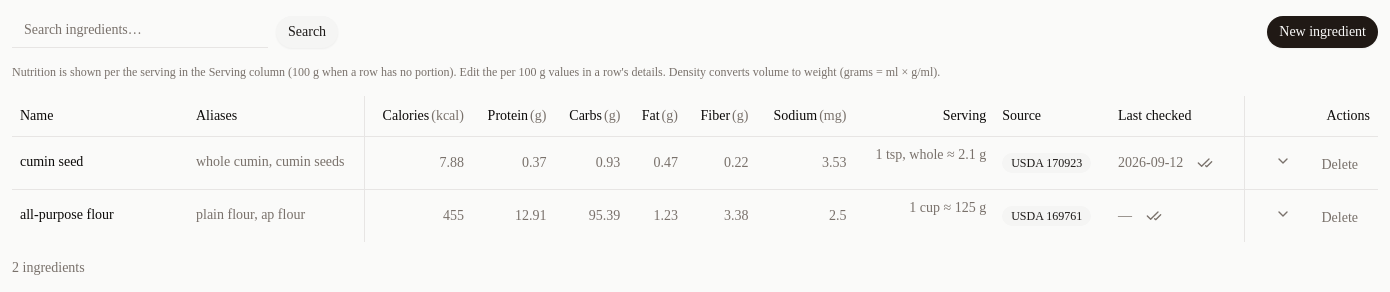
IngredientsTable › disables Mark checked while the row has unsaved edits
Check: the button named "Mark cumin seed checked" is enabled, box [1187,146,1223,178]
Replace the text in the field named "Name for cumin seed" with "whole cumin seed" at (100, 162), box [20,152,180,173]
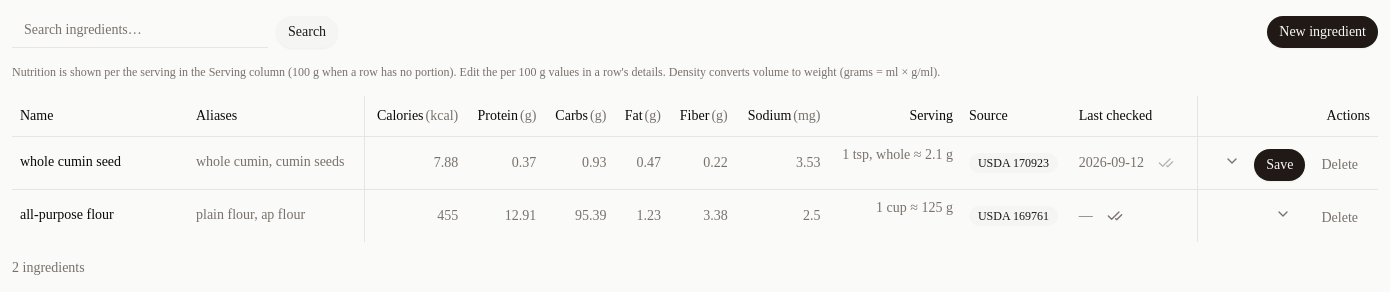
Check: the button named "Mark cumin seed checked" is disabled, box [1148,146,1184,178]
